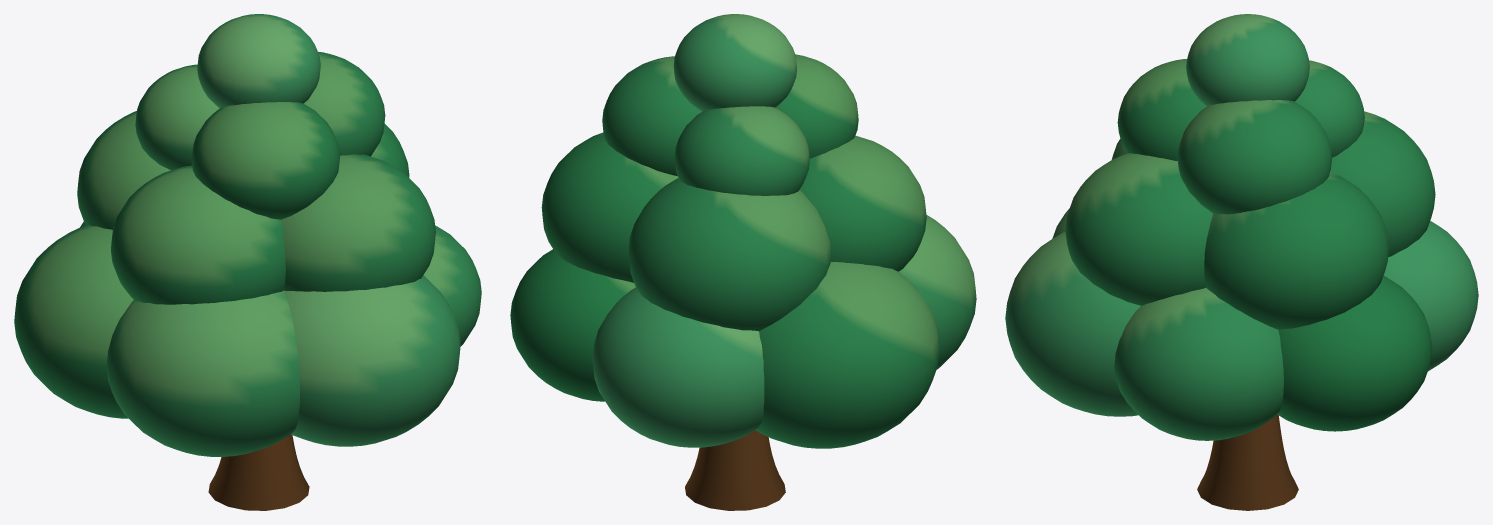
Rendered from pine-tree-115.obj.
The picture shows the model from 3 angles, left to right: view 1: azimuth 30°, elevation 25°; view 2: azimuth 150°, elevation 25°; view 3: azimuth 270°, elevation 25°; orthographic projection.
Parts seen in each view (by area): view 1: tree; view 2: tree; view 3: tree.
Part boxes in pixels (x1,y1,x2,y2): tree: (14,14,481,510); tree: (510,14,976,510); tree: (1005,14,1478,510).
Bounding box in the file's own units: 246 × 276 × 253.
